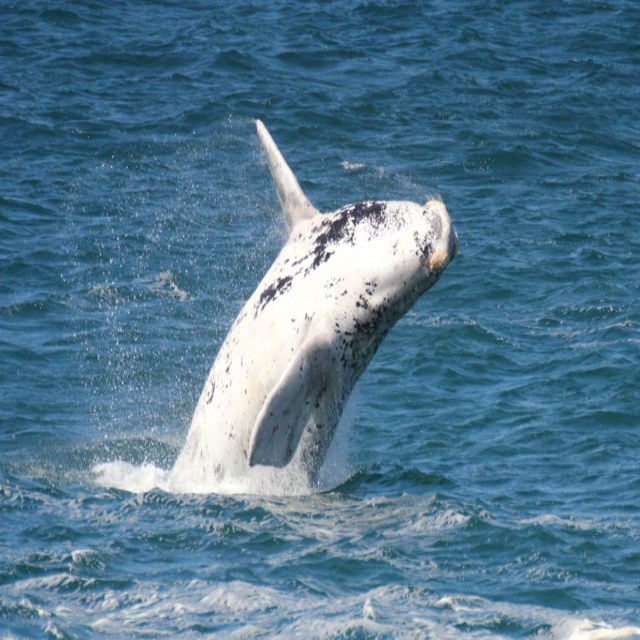Whale: (168, 119, 460, 491)
